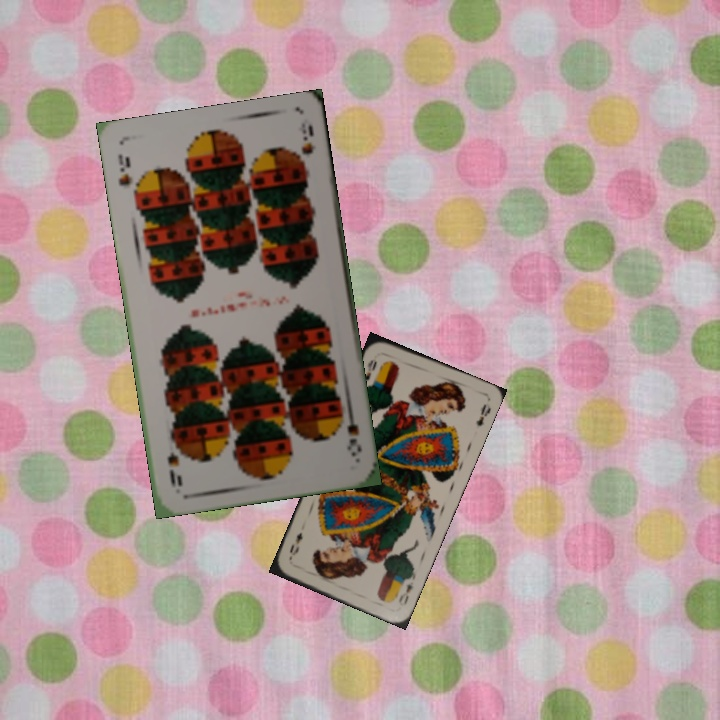EO: (392, 571, 418, 609), (359, 356, 379, 386)
S9: (343, 403, 364, 459), (114, 150, 135, 189)
